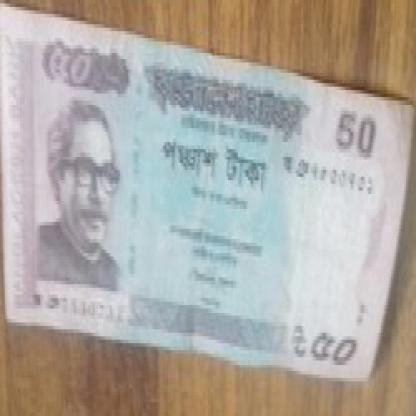Fifty taka: (38, 17, 113, 108), (291, 312, 363, 388)
